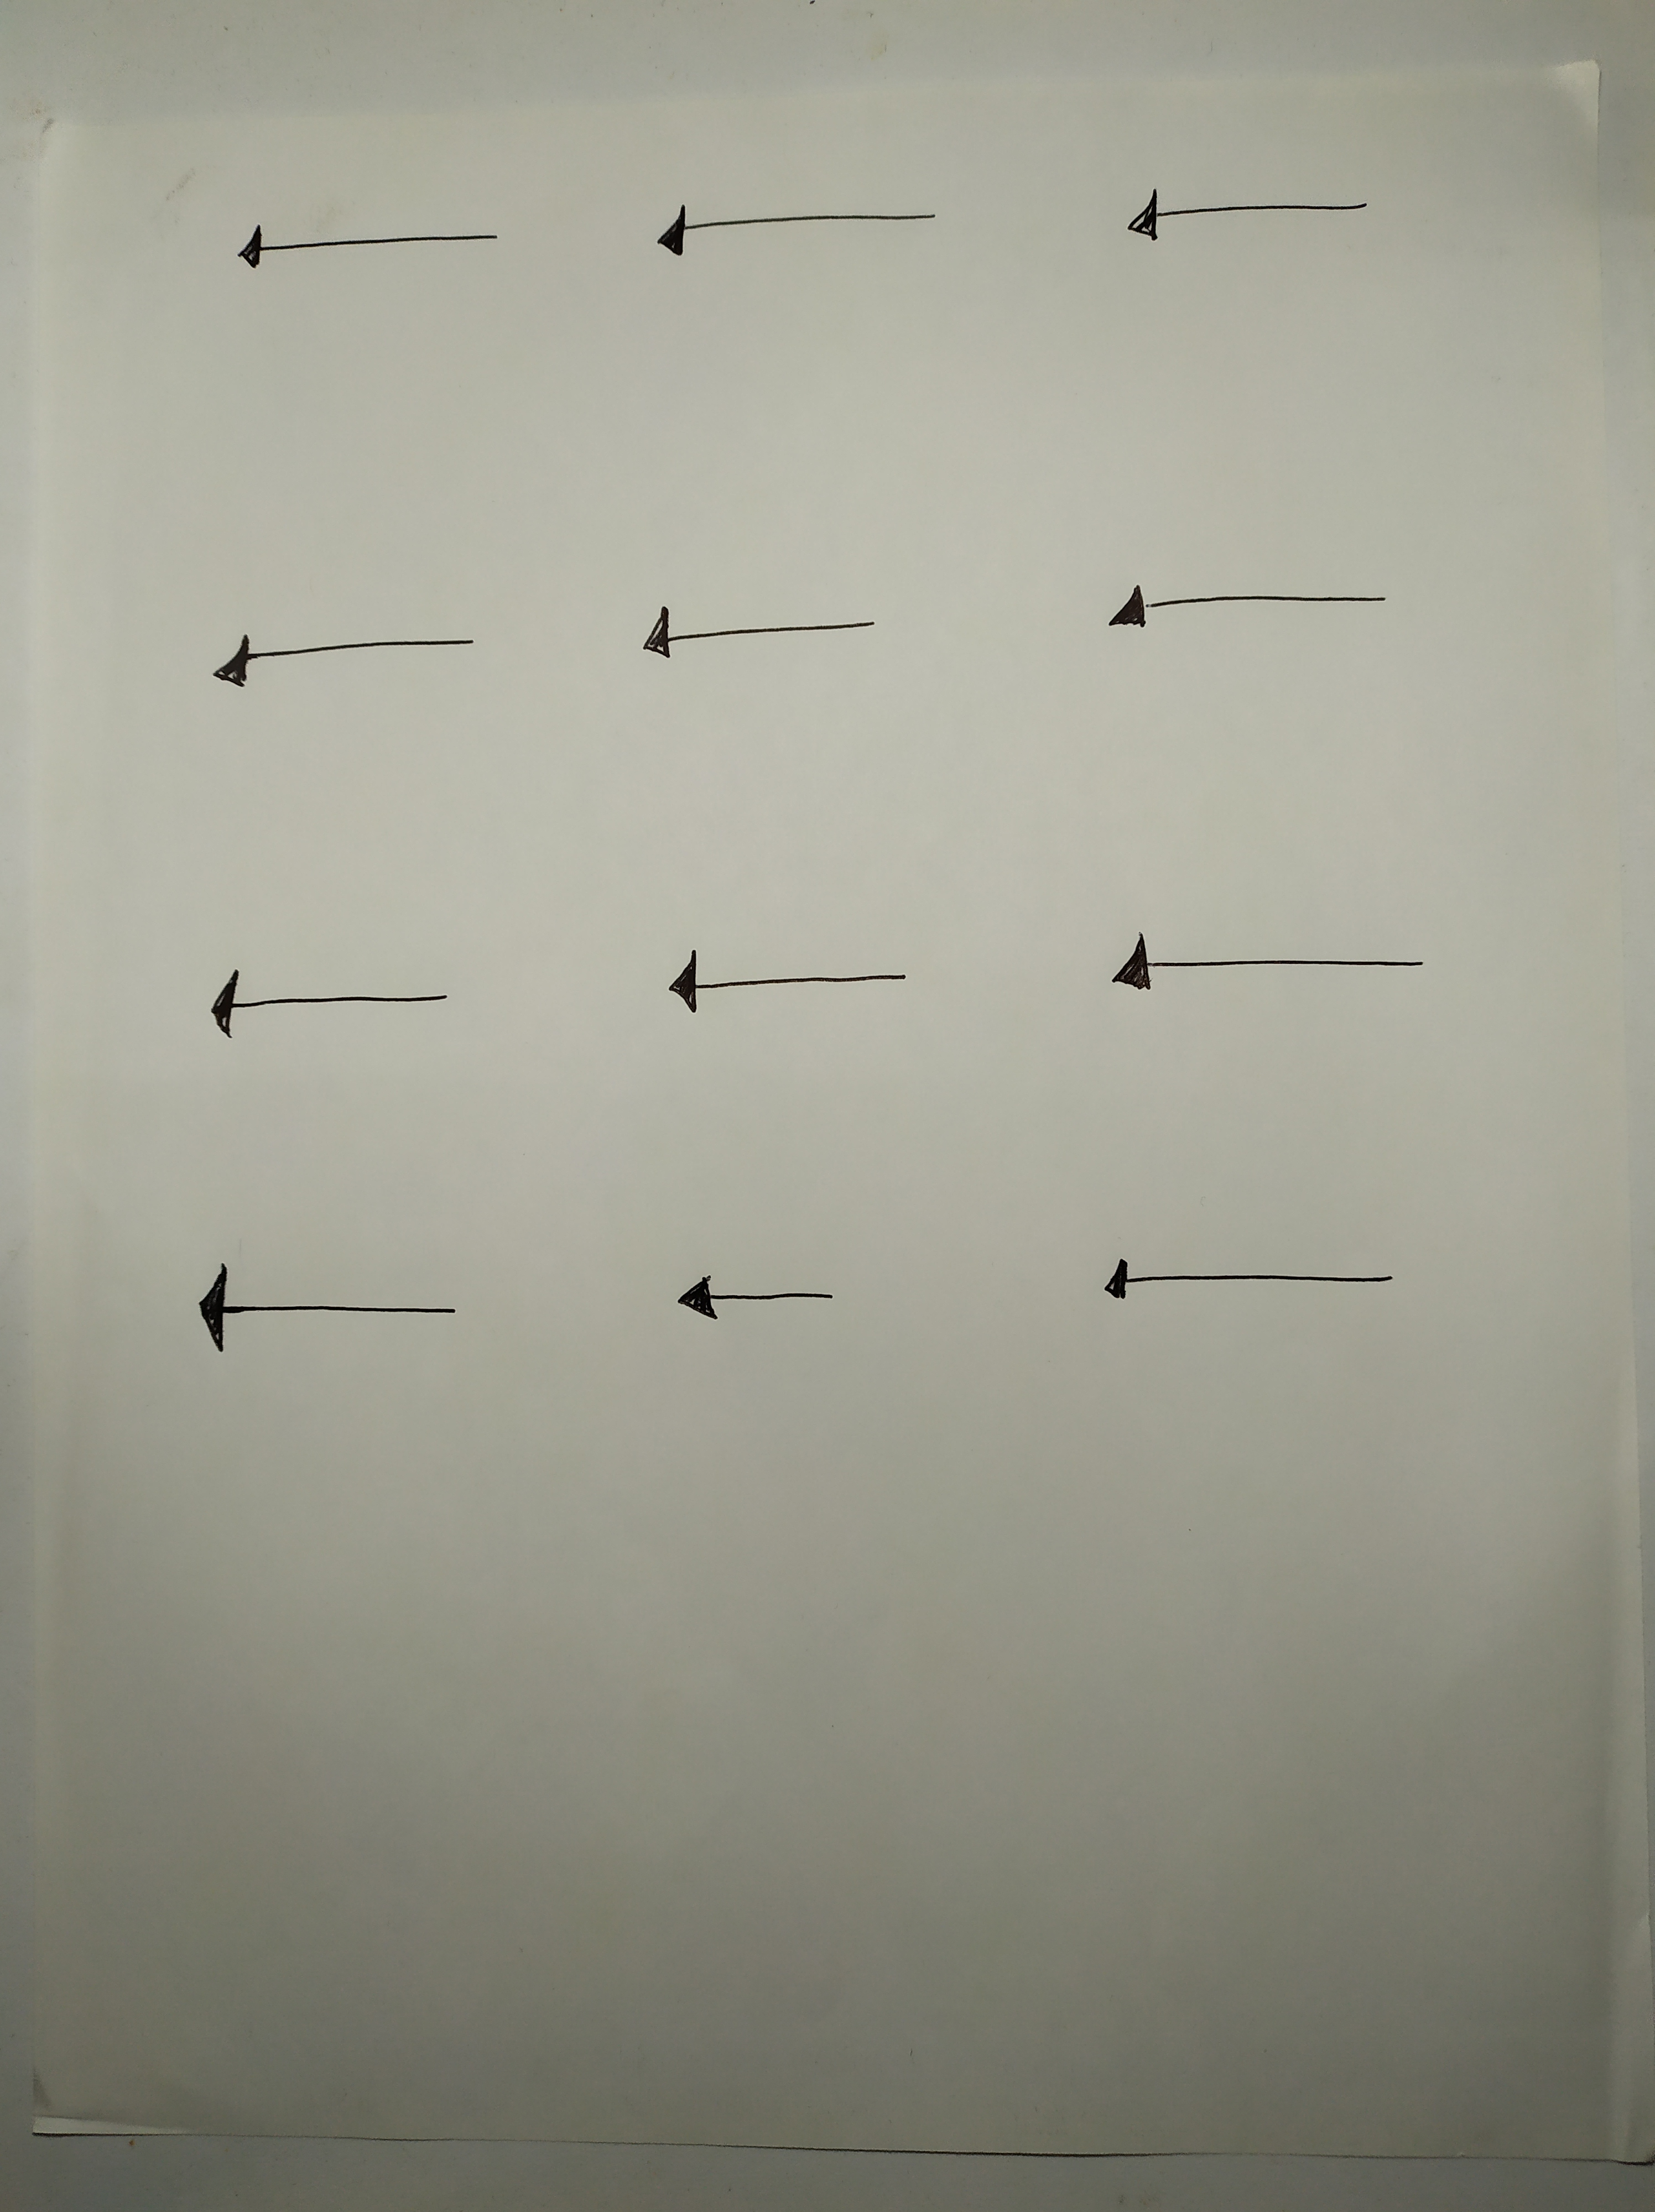arrow_line_left: (156, 1255, 501, 1362), (1078, 926, 1453, 1006), (629, 931, 939, 1027), (1071, 1239, 1413, 1317), (629, 189, 963, 264), (198, 205, 523, 281), (183, 959, 487, 1041), (608, 594, 907, 672), (1078, 575, 1415, 643), (1102, 177, 1399, 248), (188, 622, 506, 688), (650, 1267, 866, 1329)
